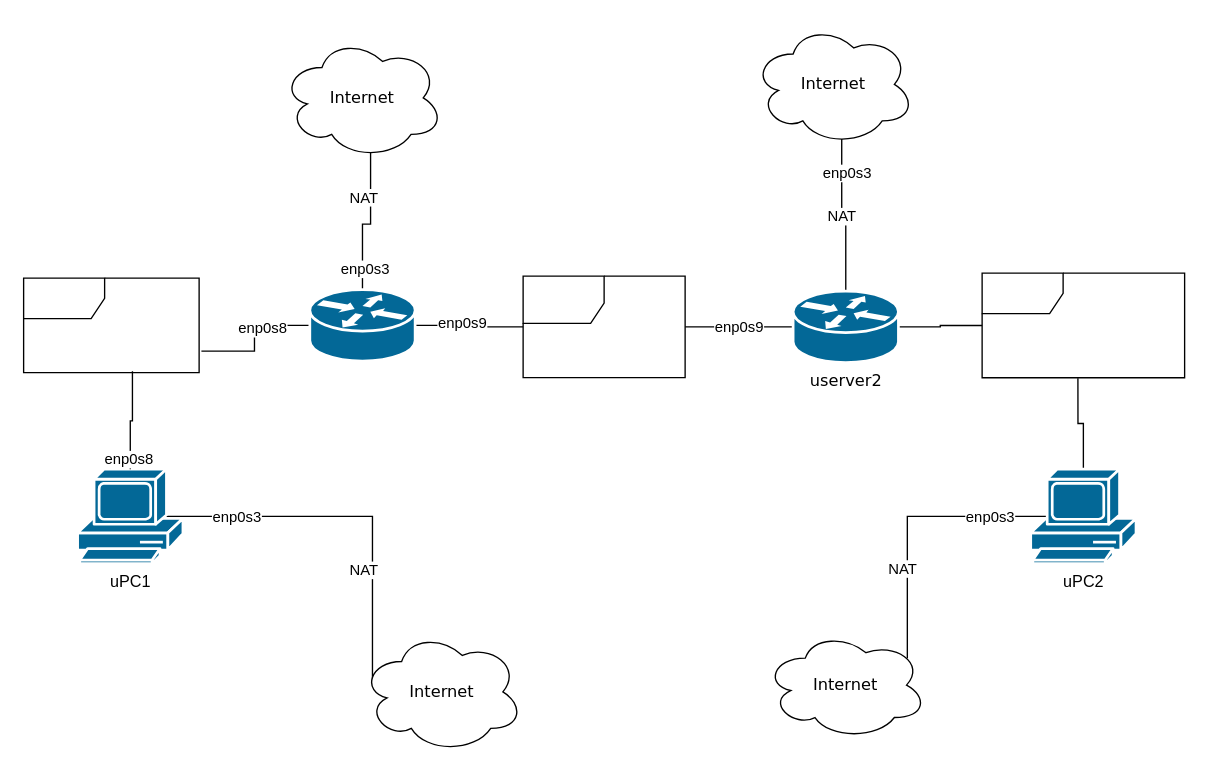
Some shapes in this 1208 by 776 pixel diagram are drawn without their labels. Each missing label, with the box of its shape:
dahili1: (22, 277, 199, 373)
dahili2: (981, 272, 1185, 378)
dahili3: (522, 275, 685, 378)
userver1: (308, 288, 416, 362)
